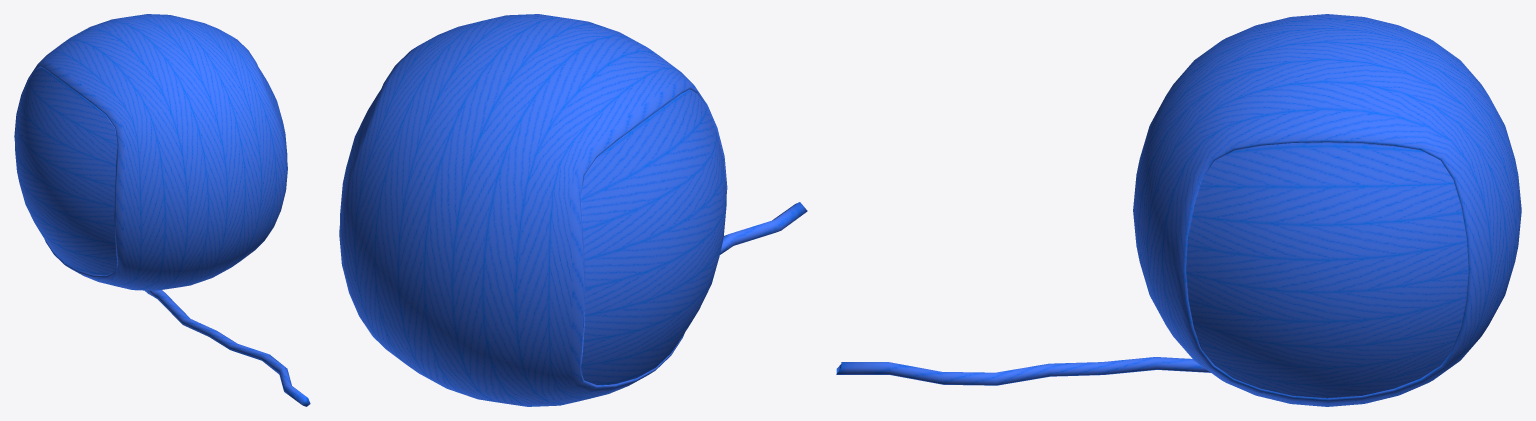
Rendered from Bola-Estambre.glb.
The picture shows the model from 3 angles, left to right: view 1: azimuth 30°, elevation 25°; view 2: azimuth 150°, elevation 25°; view 3: azimuth 270°, elevation 25°; orthographic projection. The views are drawn at different scales.
Visible parts, largest first — view 1: Cube.002; view 2: Cube.002; view 3: Cube.002.
Part boxes in pixels (x1,y1,x2,y2): Cube.002: (14, 14, 310, 406); Cube.002: (339, 14, 807, 406); Cube.002: (836, 14, 1521, 406).
Bounding box in the file's own units: 1.6 × 1.64 × 2.89.
1 material, 1 textured.
